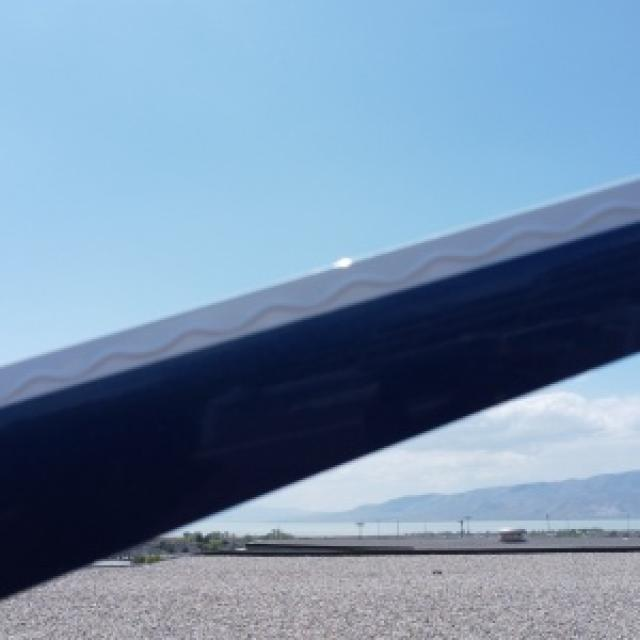healthy: (0, 179, 638, 595)
